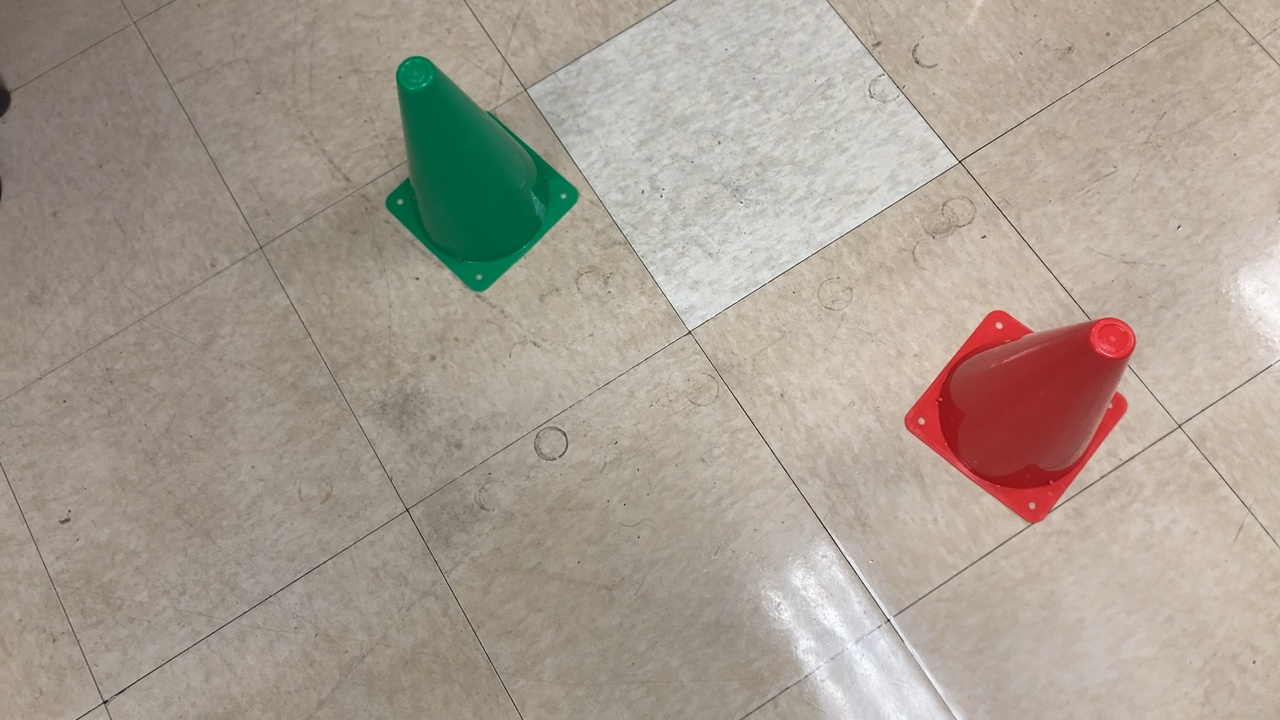green_cone: (381, 53, 585, 301)
red_cone: (897, 300, 1138, 529)
